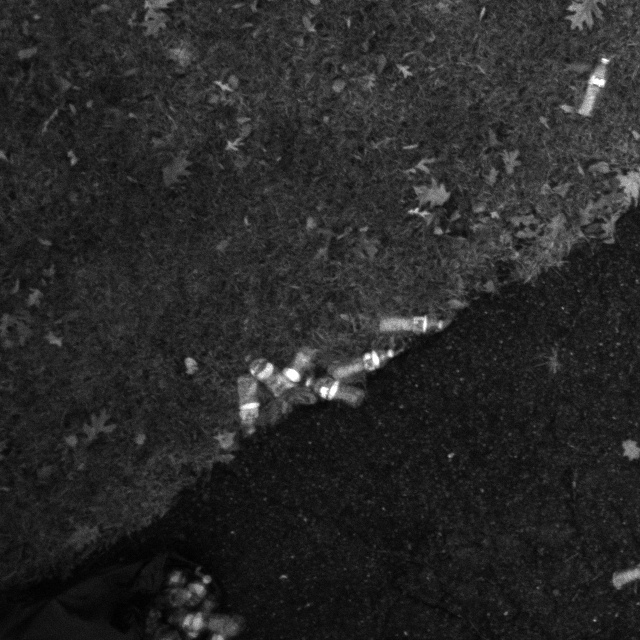bottle: (273, 339, 321, 427), (249, 353, 311, 420), (569, 51, 621, 126), (330, 336, 406, 384), (225, 363, 269, 443), (306, 370, 375, 413), (376, 310, 456, 344)
